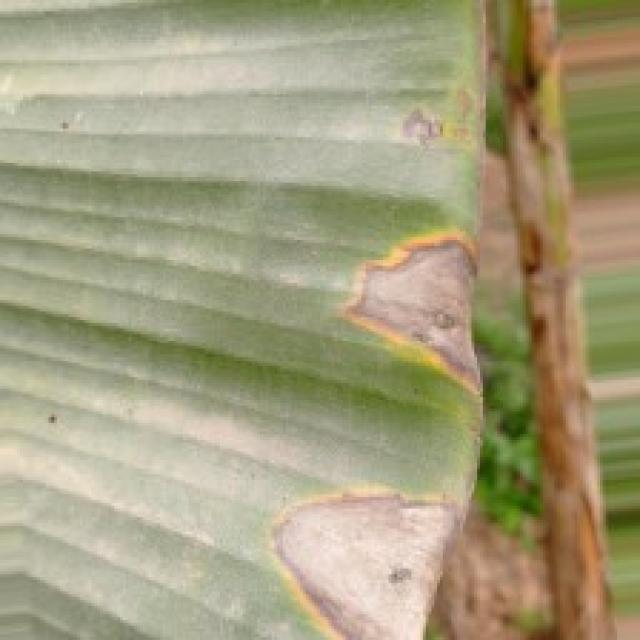Bacterial_spot: (249, 443, 479, 640), (329, 228, 494, 408), (393, 93, 490, 159)
